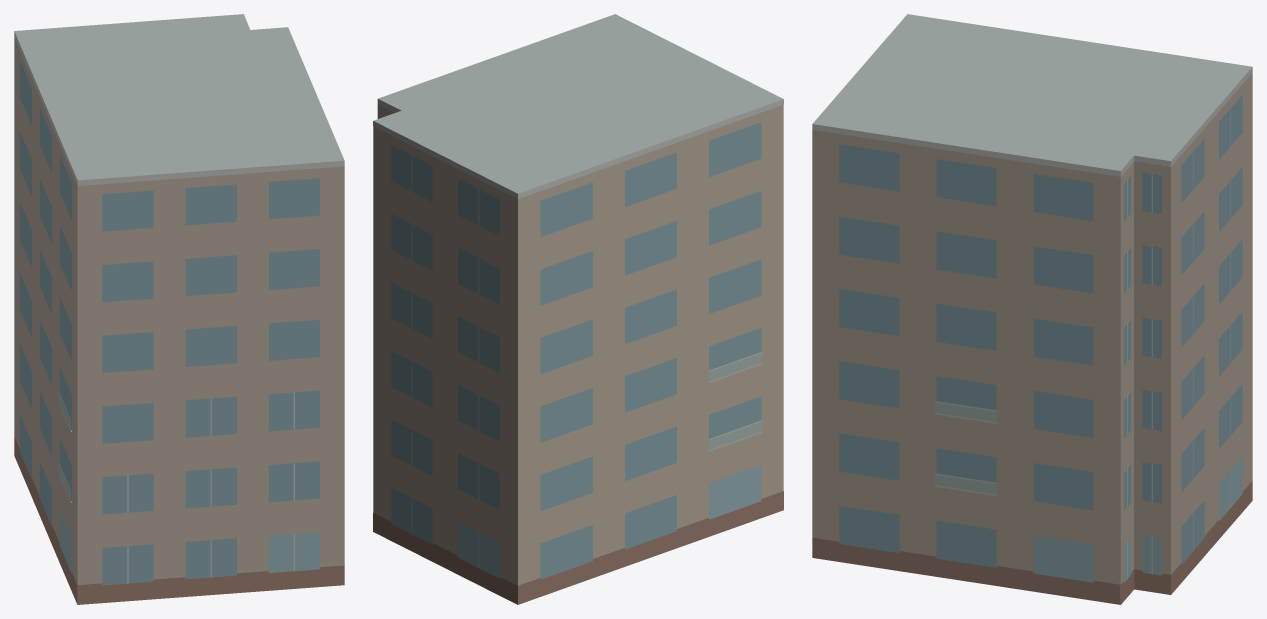
File: survey-upis-32893552.glb
The picture shows the model from 3 angles, left to right: view 1: azimuth 30°, elevation 25°; view 2: azimuth 150°, elevation 25°; view 3: azimuth 270°, elevation 25°; orthographic projection. The views are drawn at different scales.
Visible parts, largest first — view 1: survey-upis-32893552.tmp; view 2: survey-upis-32893552.tmp; view 3: survey-upis-32893552.tmp.
Part boxes in pixels (box(x1,y1,x2,y2)): survey-upis-32893552.tmp: box(14, 14, 344, 604); survey-upis-32893552.tmp: box(373, 14, 783, 604); survey-upis-32893552.tmp: box(812, 14, 1252, 604).
Size of the model in its own units: 14.22 by 18.3 by 16.84.
